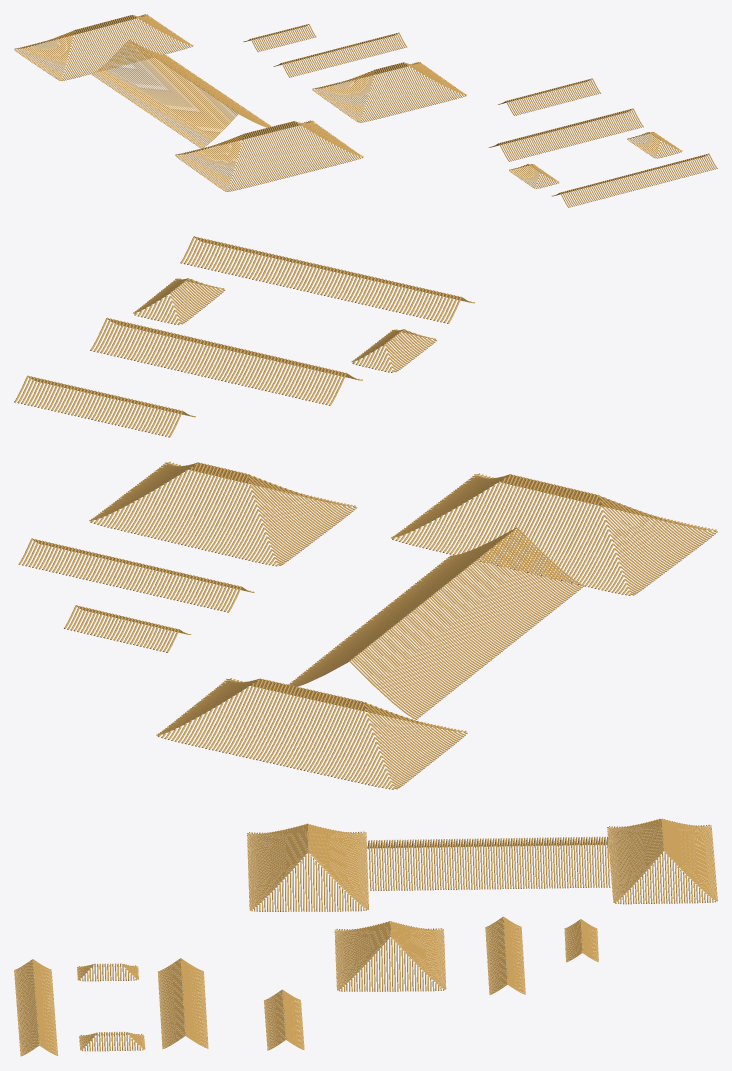
The model's file is roof-tiles-0-3.glb.
3 renders of one model, top to bottom at view 1: azimuth 30°, elevation 25°; view 2: azimuth 150°, elevation 25°; view 3: azimuth 270°, elevation 25°, orthographic. The views are drawn at different scales.
Parts seen in each view (by area): view 1: roof-tiles-0-3_micro_Roof_Glazed_Ochre; view 2: roof-tiles-0-3_micro_Roof_Glazed_Ochre; view 3: roof-tiles-0-3_micro_Roof_Glazed_Ochre.
Part boxes in pixels (<box>): roof-tiles-0-3_micro_Roof_Glazed_Ochre: <box>14,14,717,207</box>; roof-tiles-0-3_micro_Roof_Glazed_Ochre: <box>14,236,717,789</box>; roof-tiles-0-3_micro_Roof_Glazed_Ochre: <box>14,818,717,1056</box>.
Bounding box in the file's own units: 0.8394 × 0.0593 × 1.08.
